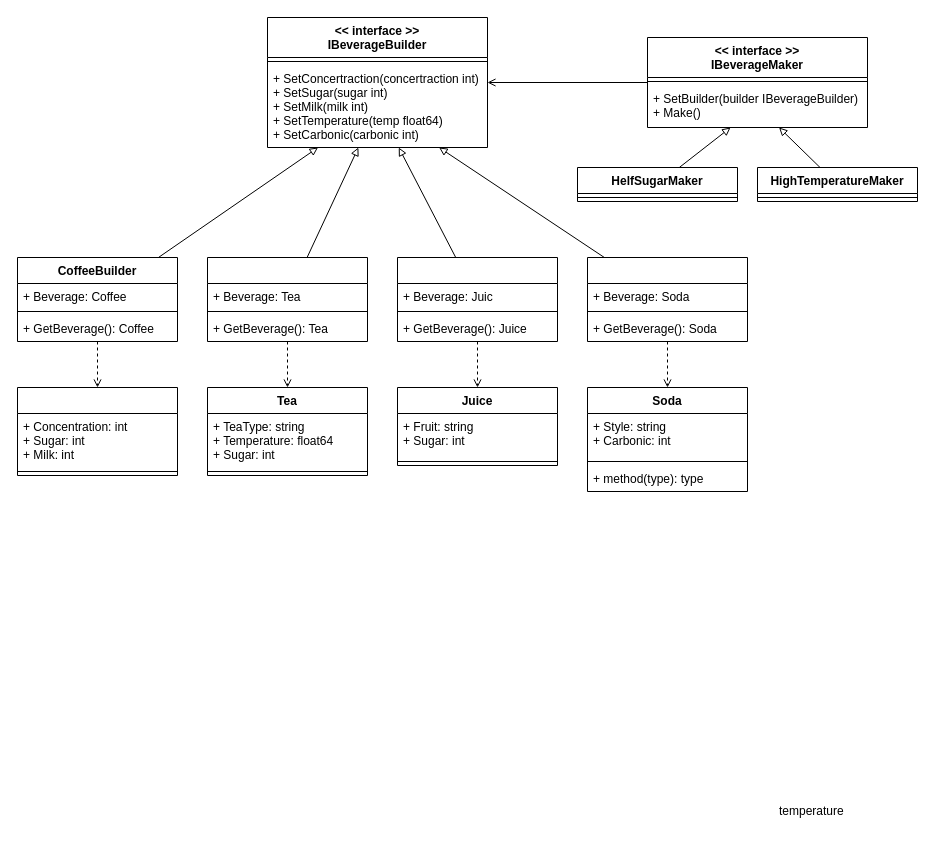
Some shapes in this 935 by 855 pixel diagram are drawn without their labels. The box of each missing label's shape, as (x1, y1, x2, y2) in pixels:
AppleJuiceBuilder: (396, 256, 558, 342)
Coffee: (16, 386, 178, 476)
ColaSodaBuilder: (586, 256, 748, 342)
WooLongTeaBuilder: (206, 256, 368, 342)
